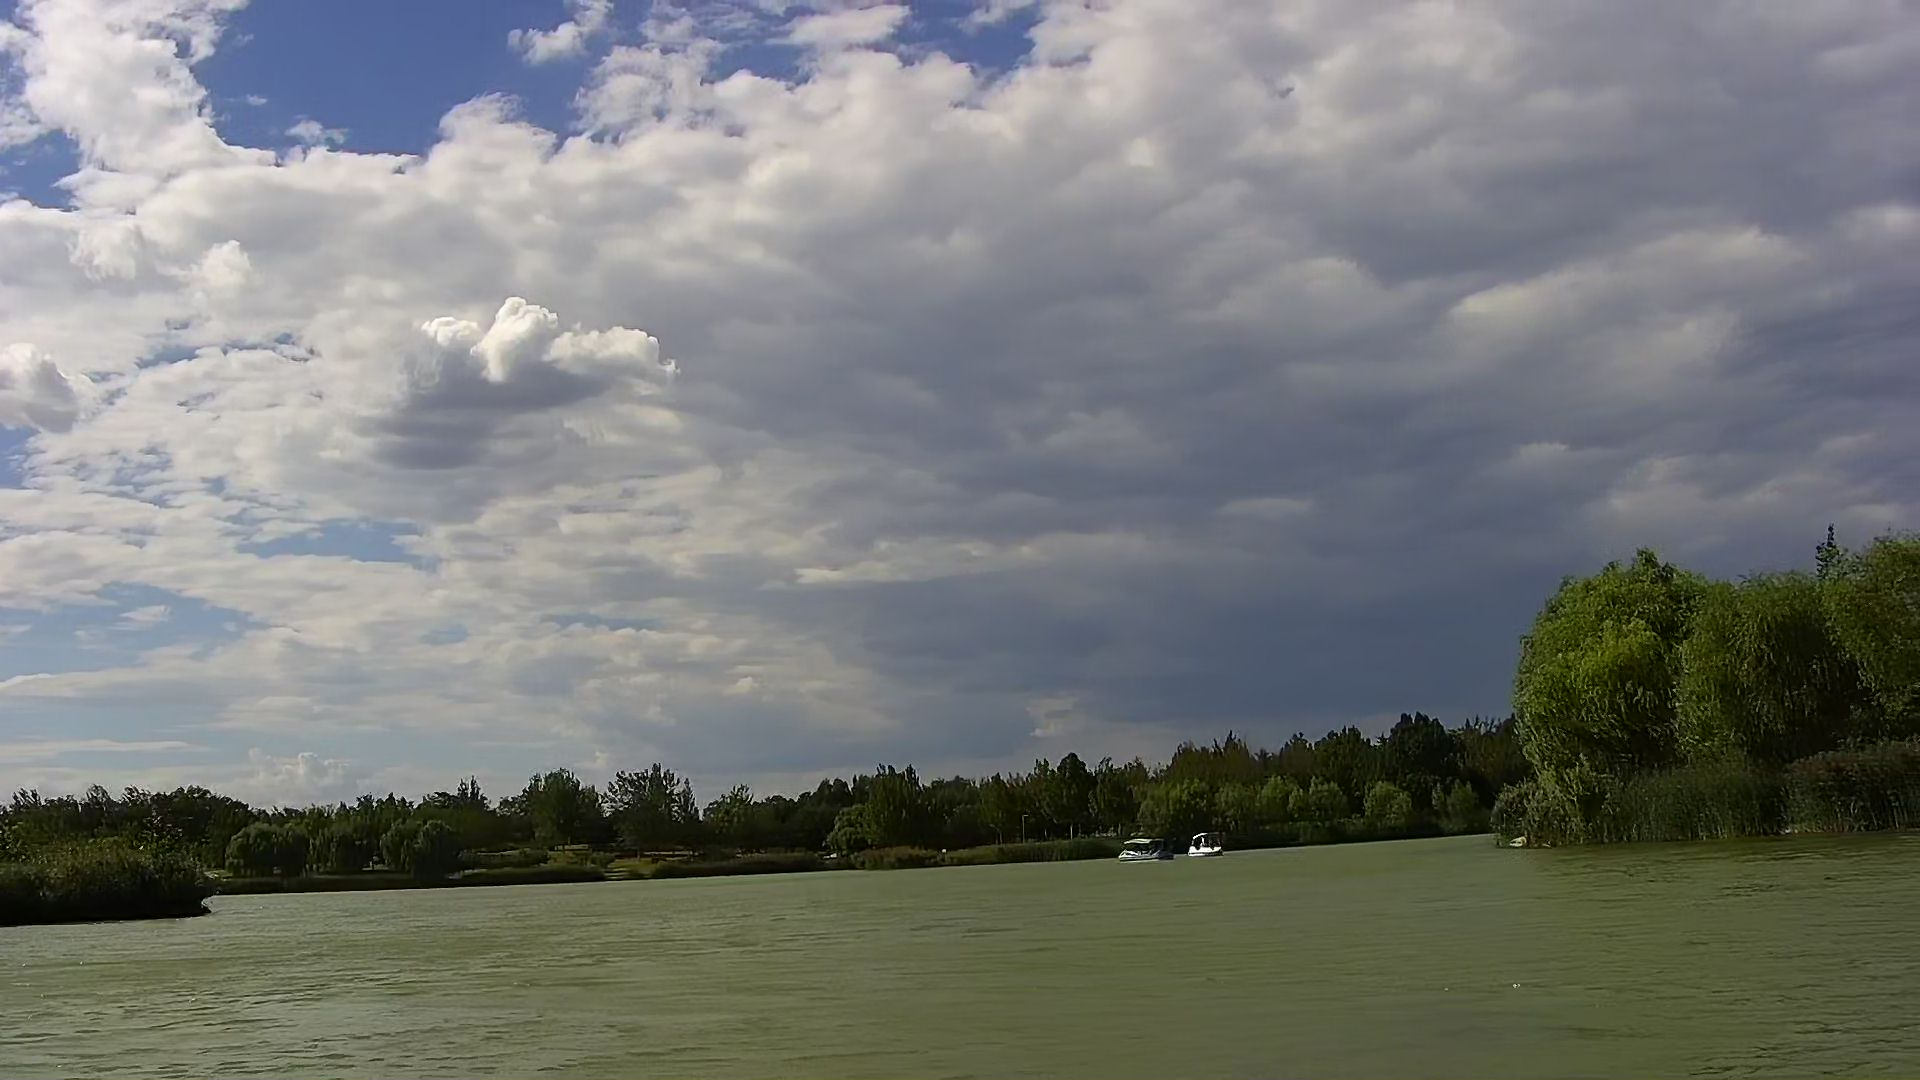boat: (1112, 837, 1166, 864), (1182, 829, 1224, 860)
rock: (1509, 833, 1528, 851)
